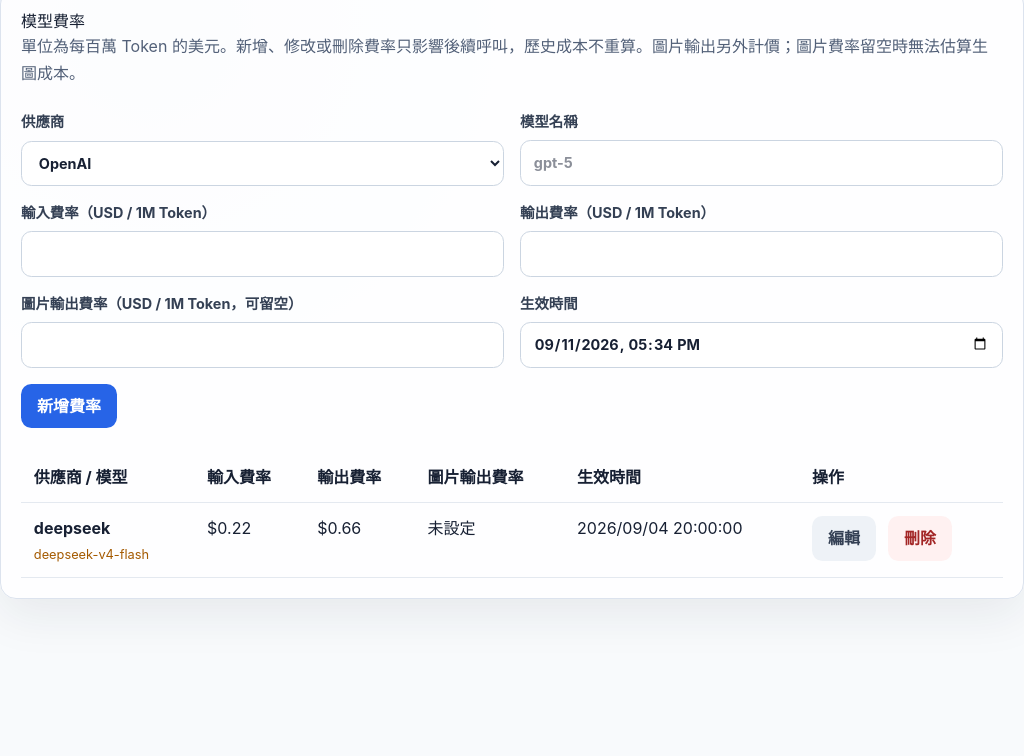
Test case: ModelPriceForm › opens a prefilled editor for an existing rate
Click the button with aria-label "編輯 deepseek-v4-flash" at (844, 538), box top-left (812, 516), bottom-right (876, 561)
(page scrolled)
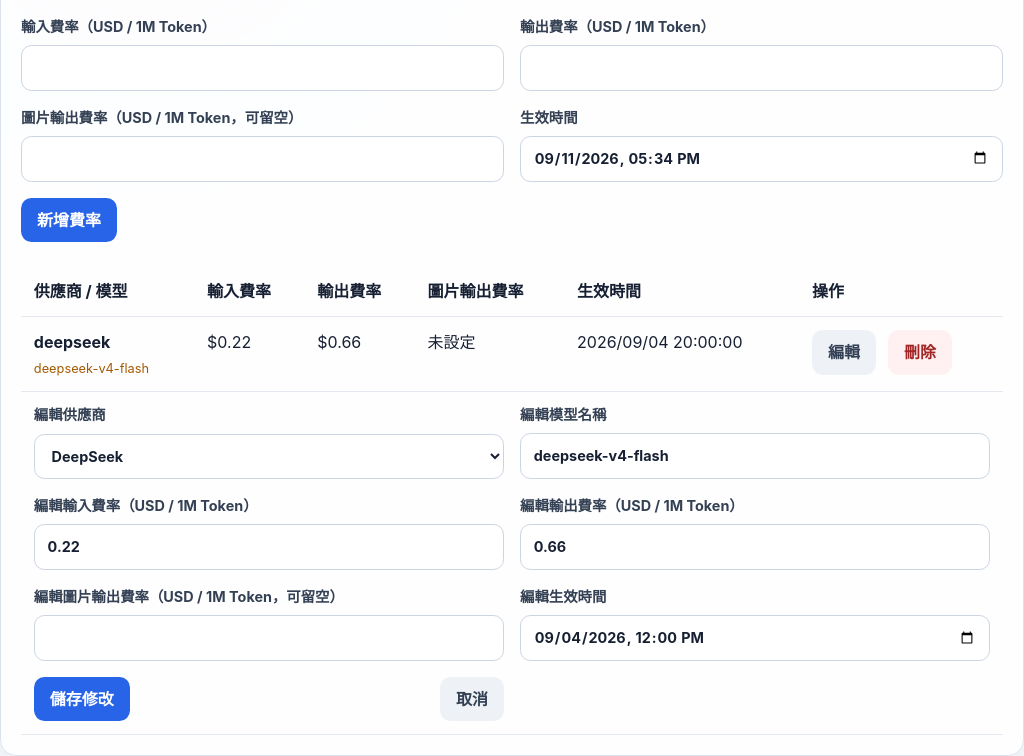
Now the dropdown labelled "編輯供應商" shows "DeepSeek", box top-left (34, 434), bottom-right (504, 479)
Now the field labelled "編輯模型名稱" holds "deepseek-v4-flash", box top-left (520, 433), bottom-right (990, 479)
Now the number field labelled "編輯輸入費率（USD / 1M Token）" holds "0.22", box top-left (34, 524), bottom-right (504, 570)
